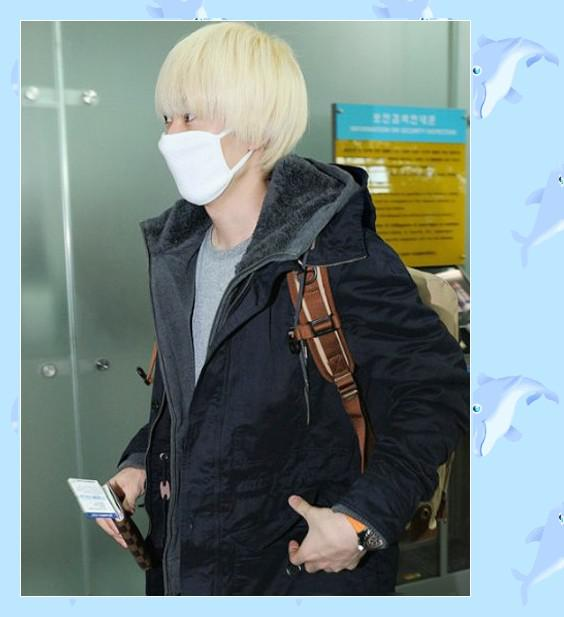OK: (156, 97, 253, 209)
